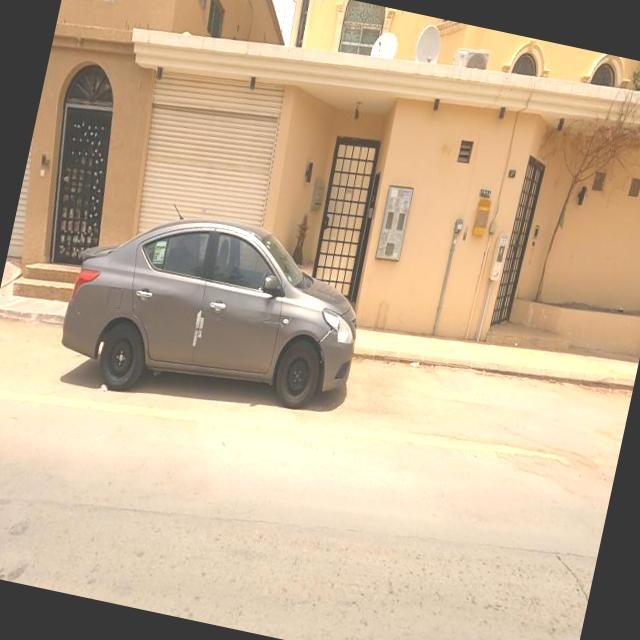debris: (384, 332, 448, 406), (74, 366, 125, 420)
